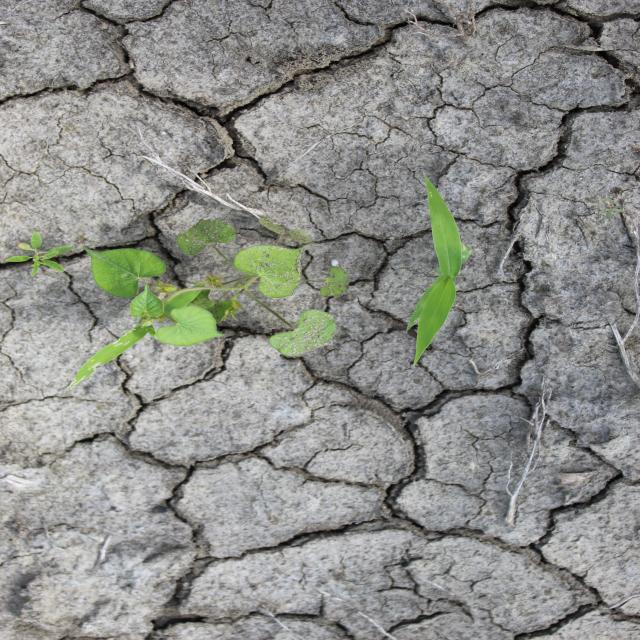MorningGlory: (80, 216, 354, 359)
Waterhemp: (5, 230, 75, 278)
